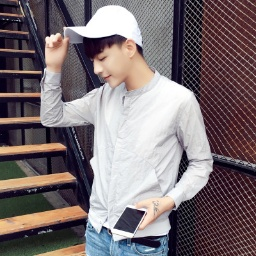face: (75, 22, 150, 90)
